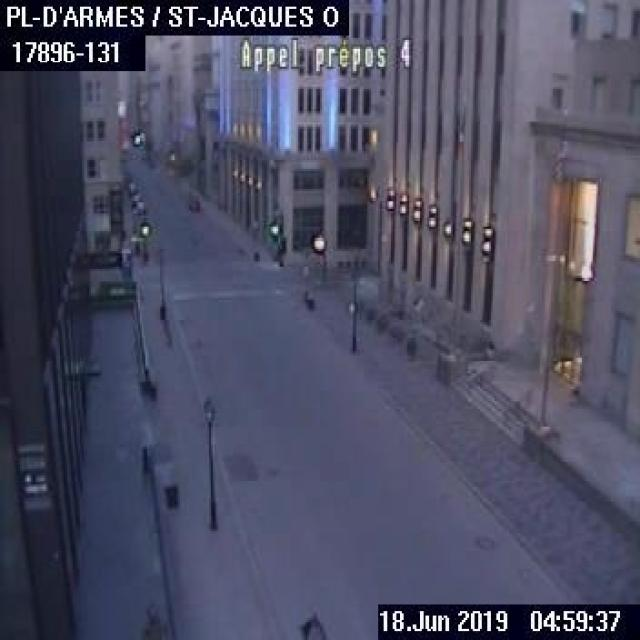vehicle: (187, 193, 200, 211)
